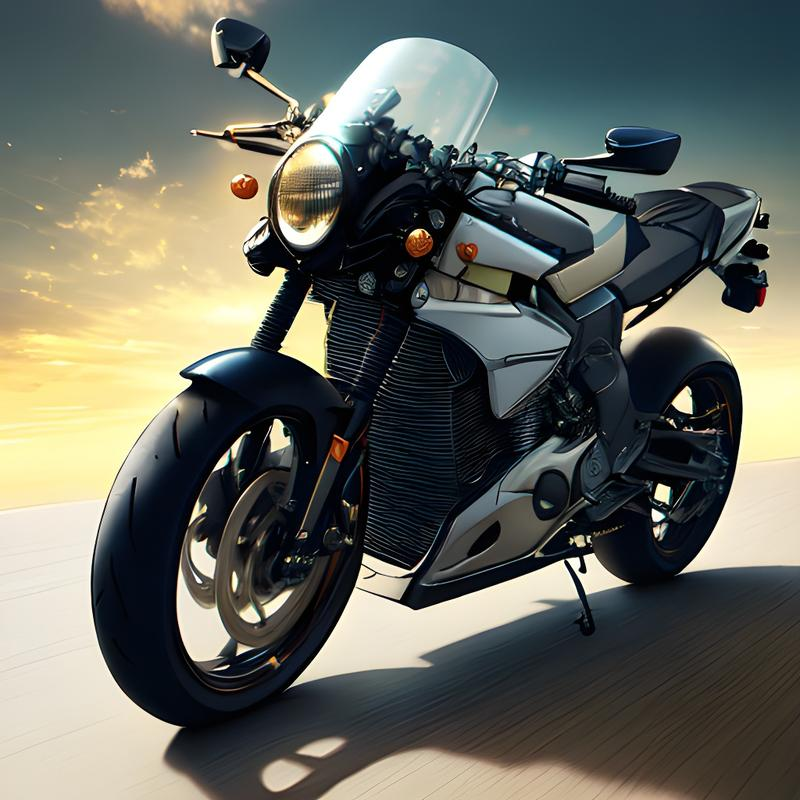摩托车: (51, 1, 800, 763)
